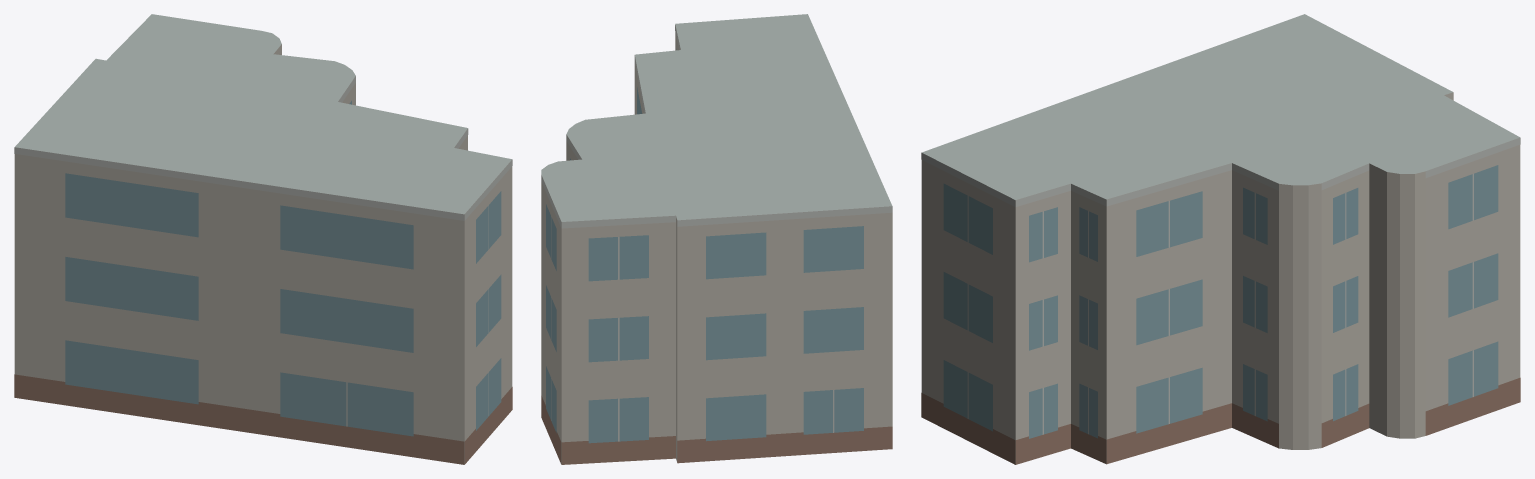
The model's file is survey-upis-32586984.glb.
3 renders of one model, left to right at view 1: azimuth 30°, elevation 25°; view 2: azimuth 150°, elevation 25°; view 3: azimuth 270°, elevation 25°, orthographic. The views are drawn at different scales.
Visible parts, largest first — view 1: survey-upis-32586984.tmp; view 2: survey-upis-32586984.tmp; view 3: survey-upis-32586984.tmp.
Part boxes in pixels (x1=…): survey-upis-32586984.tmp: x1=14, y1=14, x2=512, y2=464; survey-upis-32586984.tmp: x1=541, y1=14, x2=892, y2=464; survey-upis-32586984.tmp: x1=921, y1=14, x2=1520, y2=464.
Size of the model in its own units: 13.81 by 9.15 by 18.77.
